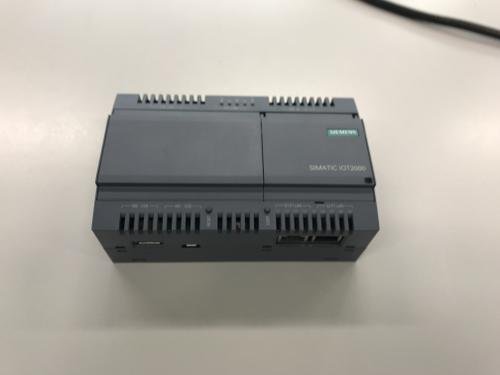device: (91, 93, 380, 263)
